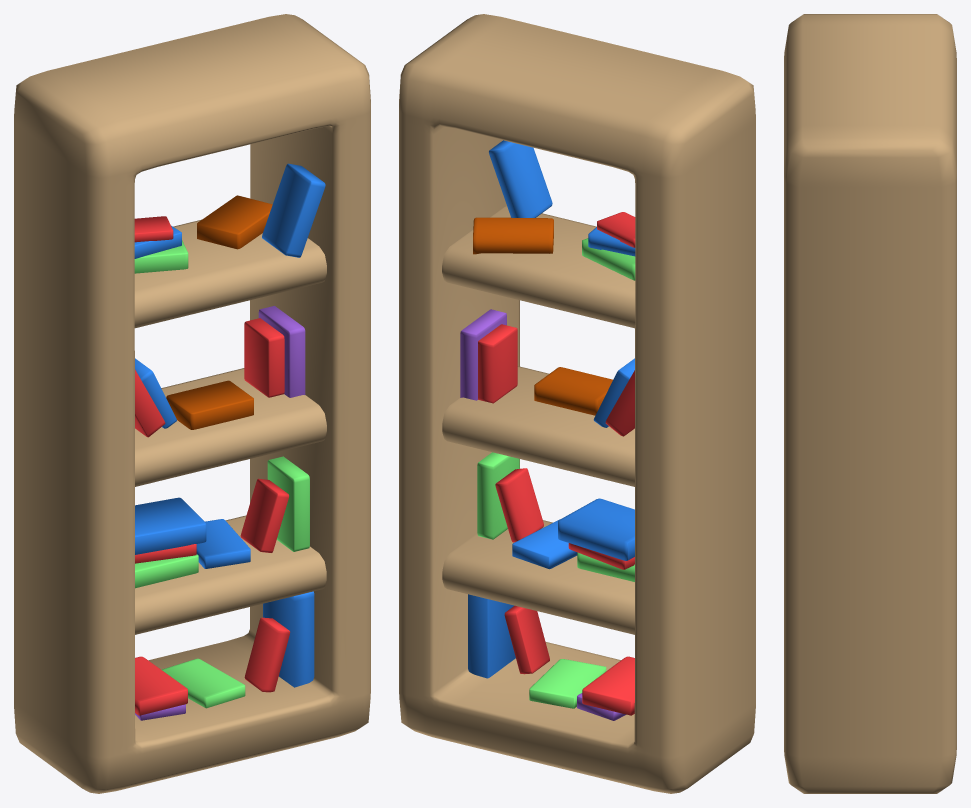
The picture shows the model from 3 angles, left to right: view 1: azimuth 30°, elevation 25°; view 2: azimuth 150°, elevation 25°; view 3: azimuth 270°, elevation 25°; orthographic projection.
Parts seen in each view (by area): view 1: Shelf; view 2: Shelf; view 3: Shelf.
Boxes of the visible parts, box(x1,y1,x2,y2) form: Shelf: box(14, 14, 370, 793); Shelf: box(399, 14, 755, 793); Shelf: box(784, 14, 956, 793).
Bounding box in the file's own units: 0.8899 × 2 × 0.4763.
1 material, 1 textured.
